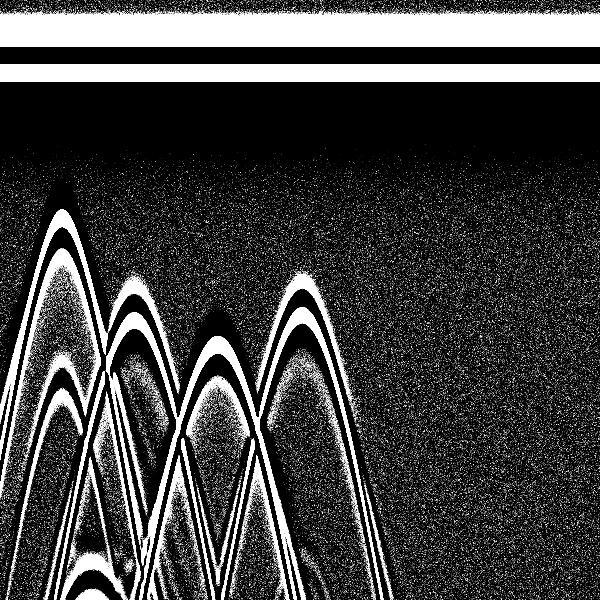pipe: (174, 3, 263, 409), (255, 5, 347, 366), (95, 3, 174, 366), (17, 6, 109, 311)
